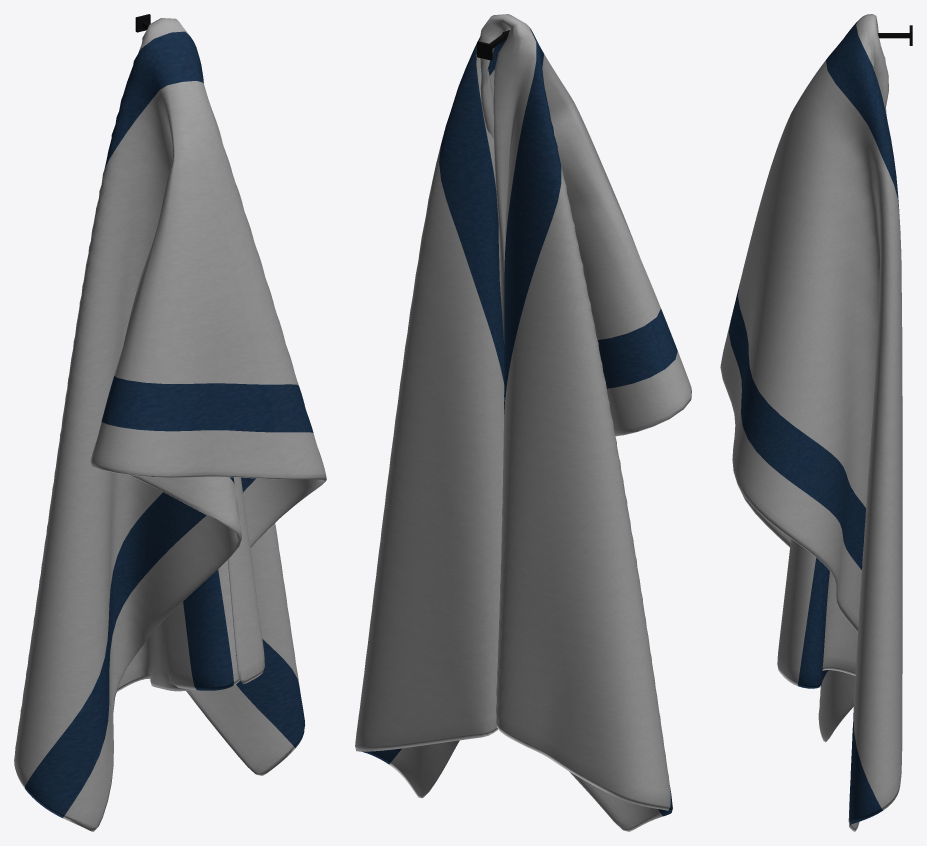
The model's file is towel.glb.
The picture shows the model from 3 angles, left to right: view 1: azimuth 30°, elevation 25°; view 2: azimuth 150°, elevation 25°; view 3: azimuth 270°, elevation 25°; orthographic projection. The views are drawn at different scales.
Visible parts, largest first — view 1: Object_4, Object_3; view 2: Object_4, Object_3; view 3: Object_4, Object_3.
Part boxes in pixels (x1,y1,x2,y2): Object_4: (14,18,326,831); Object_3: (25,31,313,817); Object_4: (355,14,691,831); Object_3: (362,27,677,816); Object_4: (720,14,902,831); Object_3: (729,21,899,824).
Size of the model in its own units: 0.4267 by 1.1 by 0.2471.
3 materials, 3 textured.
